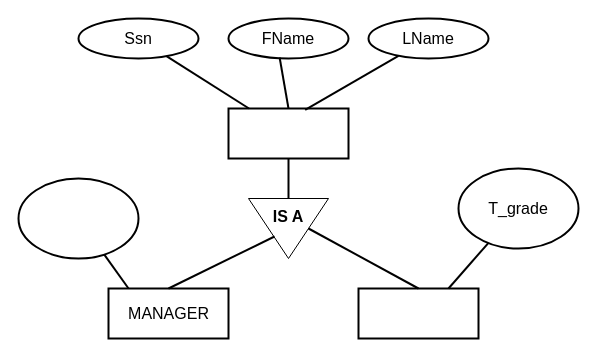
The diagram is 596 pixels wide and 356 high, and some of its shapes have lost their labels. Each missing label, with the centre of its shape:
EMPLOYEE: [288,133]
Man_hours: [78,218]
TECHNICIAN: [418,313]
